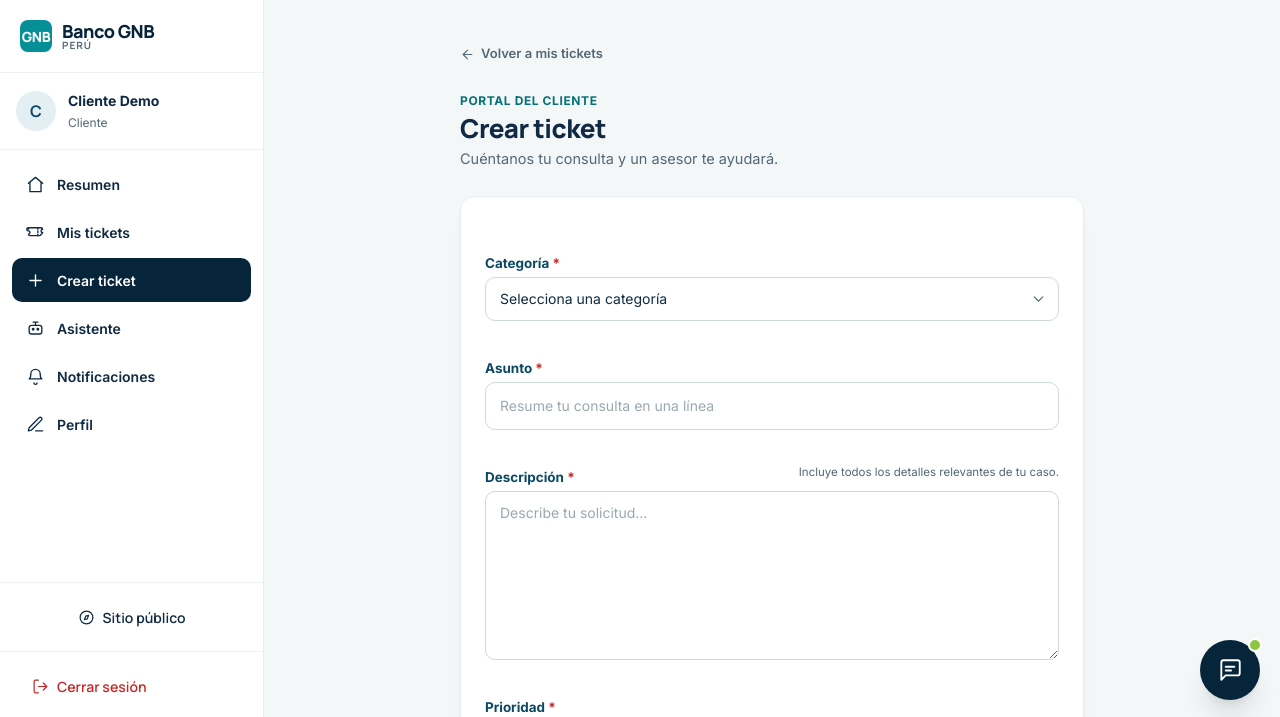
Scenario: creación manual de tickets › crea un ticket manual y navega al detalle con el código de seguimiento
Select "Cuentas" in the dropdown labelled "Categoría": (772, 299) 485,277 -> 1059,321
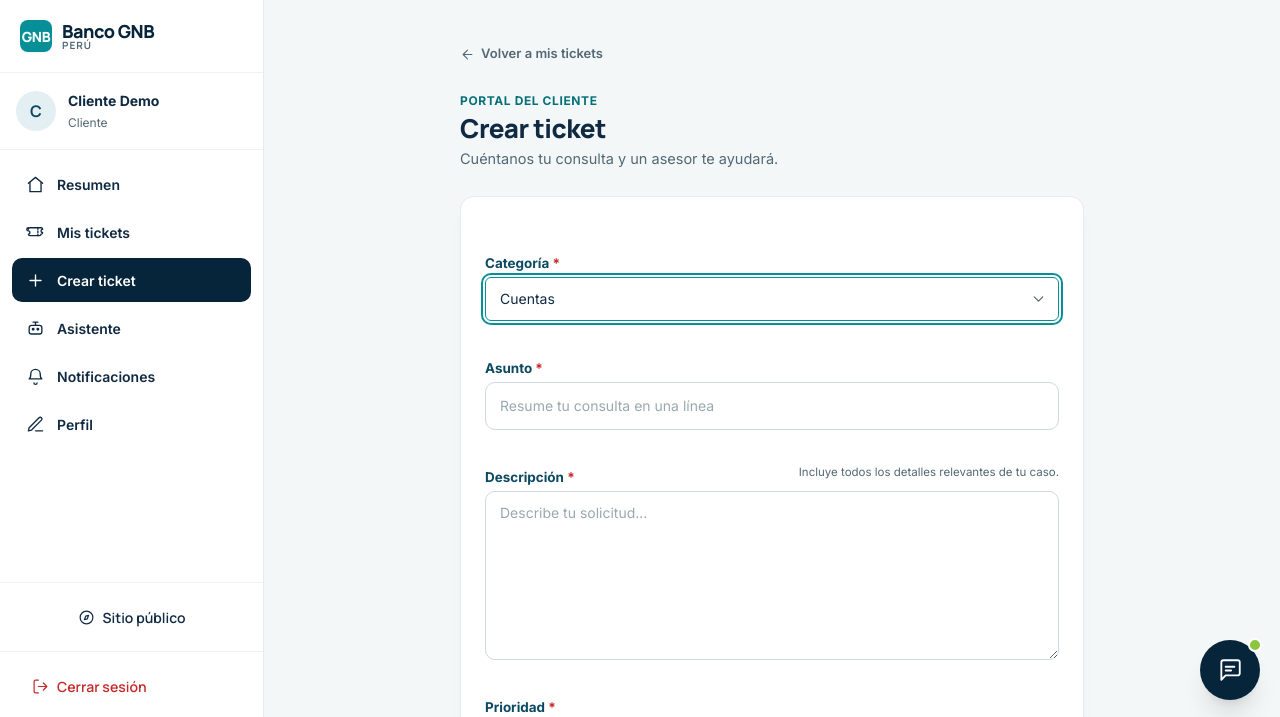
In the field labelled "Asunto": (772, 406) 485,382 -> 1059,430, type "Nueva solicitud"
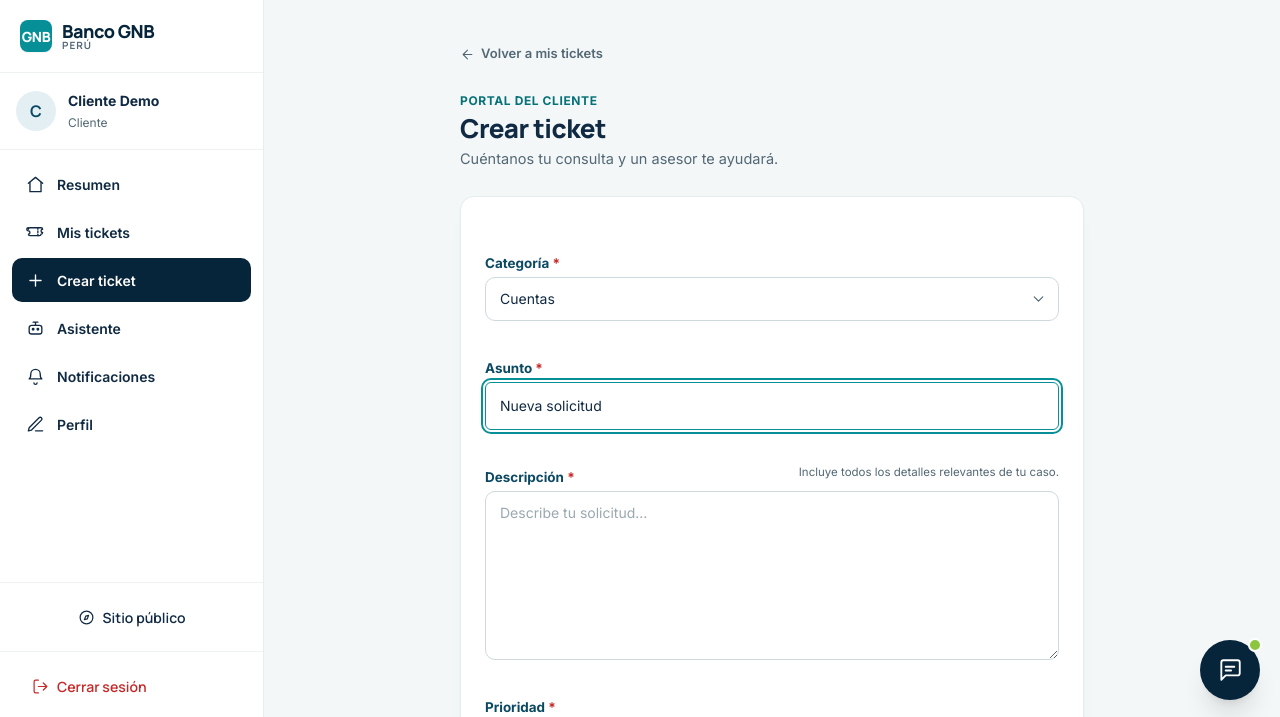
In the text box labelled "Descripción": (772, 575) 485,491 -> 1059,660, type "Descripción de la nueva solicitud"
(page scrolled)
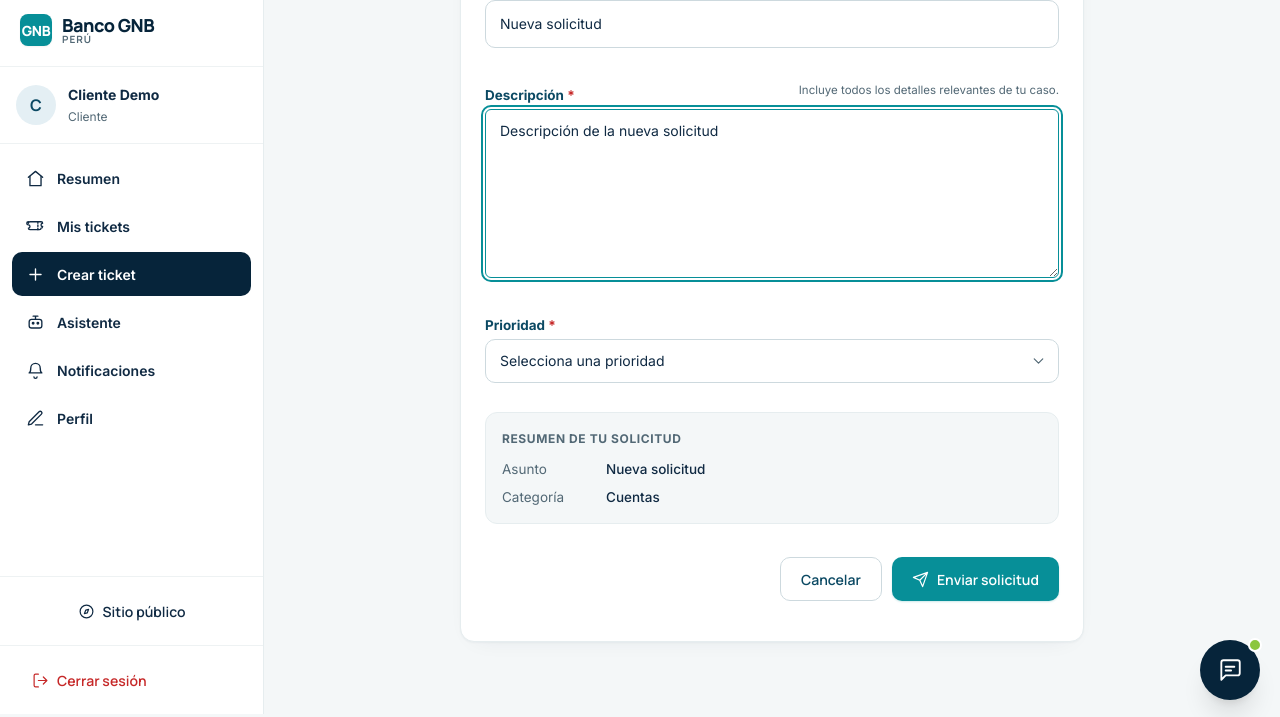
Select "Media" in the dropdown labelled "Prioridad": (772, 361) 485,339 -> 1059,383
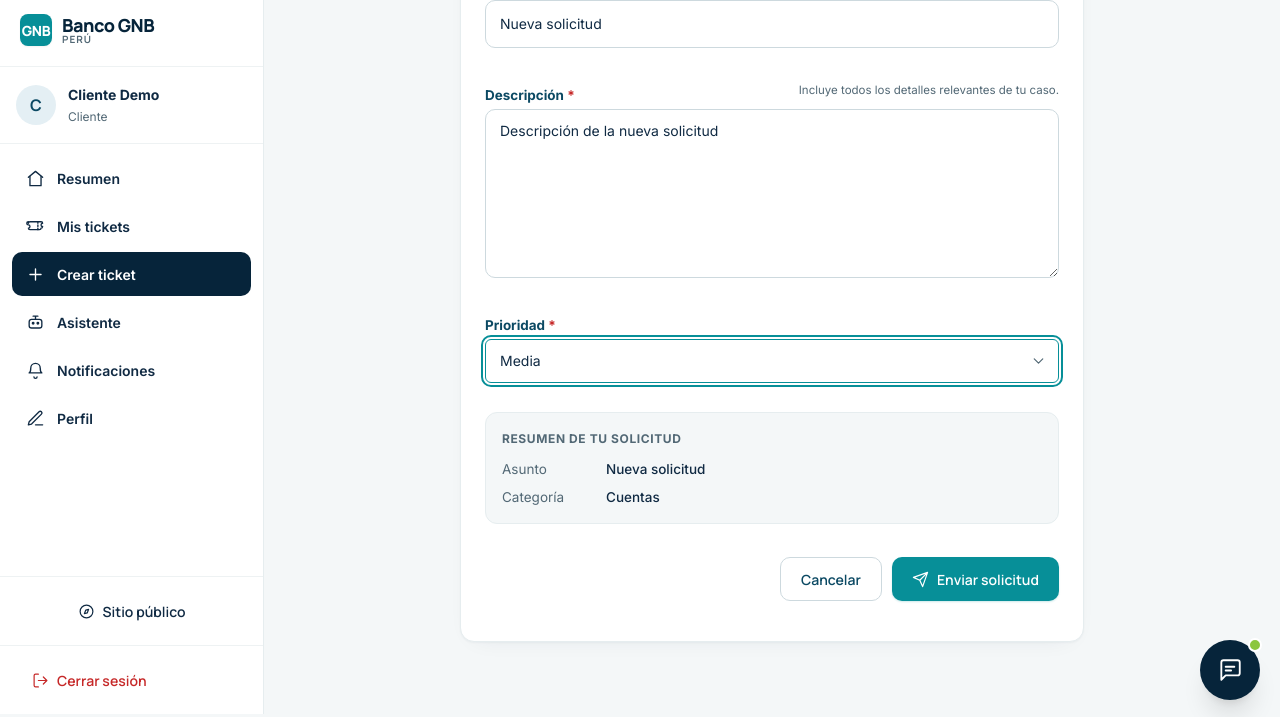
Click the button "Enviar solicitud": click(975, 579) 892,557 -> 1059,601
(page scrolled)
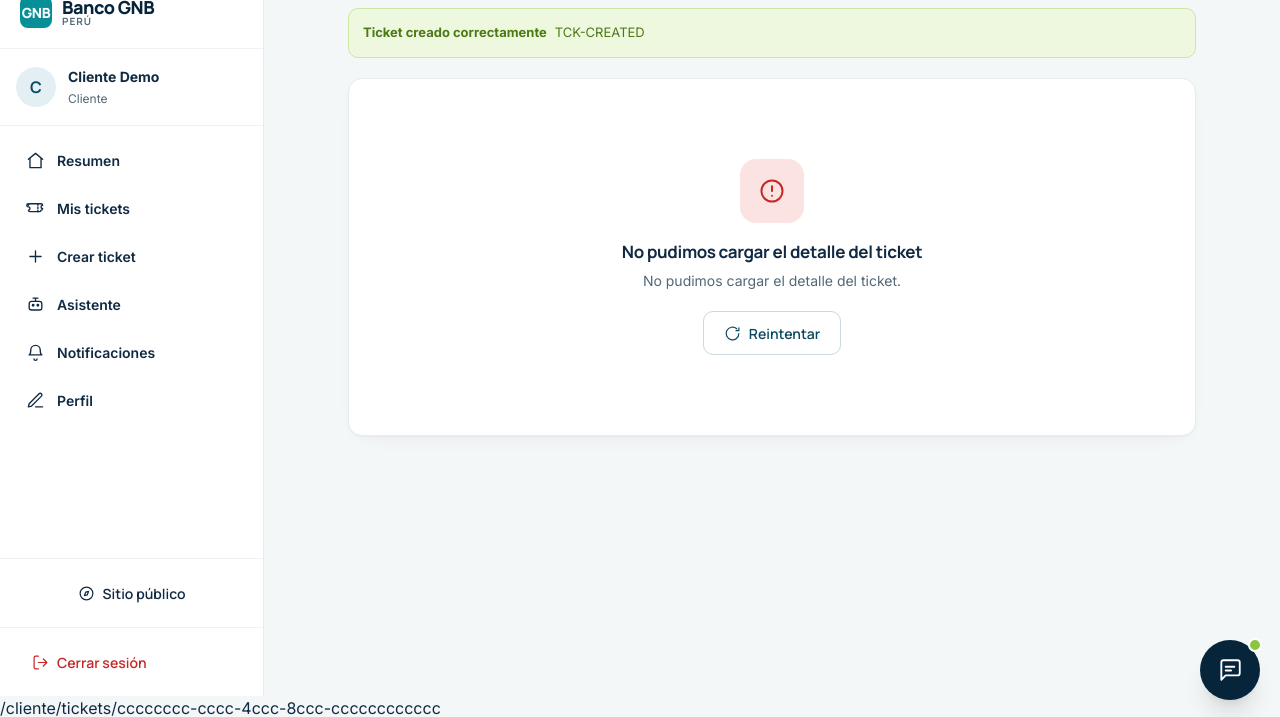
Check: the text "TCK-CREATED" is shown, box 555,24 -> 645,40
